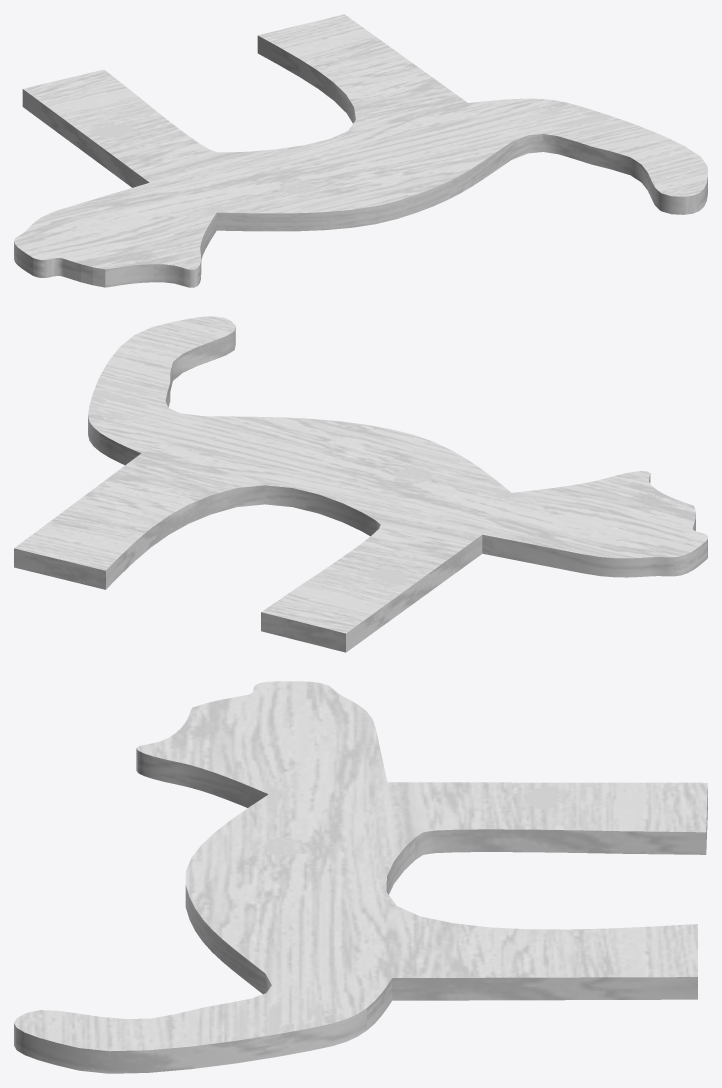
File: MeshRobothorBedKritter_0_GeomSubset_1.obj
3 views of the same model, one above another, from view 1: azimuth 30°, elevation 25°; view 2: azimuth 150°, elevation 25°; view 3: azimuth 270°, elevation 25° (orthographic). The views are drawn at different scales.
Parts seen in each view (by area): view 1: MeshRobothorBedKritter_0_GeomSubset_1; view 2: MeshRobothorBedKritter_0_GeomSubset_1; view 3: MeshRobothorBedKritter_0_GeomSubset_1.
Boxes of the visible parts, left/top/right/bottom form: MeshRobothorBedKritter_0_GeomSubset_1: left=14, top=14, right=707, bottom=287; MeshRobothorBedKritter_0_GeomSubset_1: left=14, top=316, right=707, bottom=652; MeshRobothorBedKritter_0_GeomSubset_1: left=14, top=681, right=707, bottom=1073.
Size of the model in its own units: 0.1755 by 0.005 by 0.1391.
